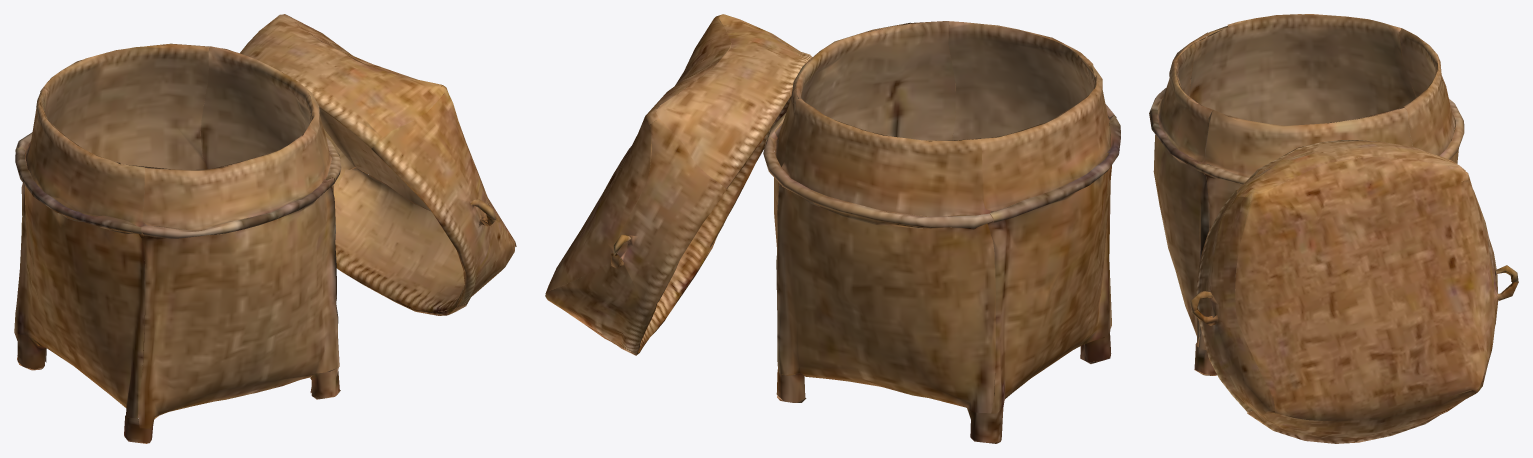
Rendered from basket-balanced-e55b08721c.glb.
3 views of the same model, side by side, from view 1: azimuth 30°, elevation 25°; view 2: azimuth 150°, elevation 25°; view 3: azimuth 270°, elevation 25° (orthographic). The views are drawn at different scales.
Visible parts, largest first — view 1: wicker_basket_02_base; view 2: wicker_basket_02_base; view 3: wicker_basket_02_base.
Part boxes in pixels (box(x1,y1,x2,y2)): wicker_basket_02_base: box(14, 14, 516, 443); wicker_basket_02_base: box(545, 14, 1120, 443); wicker_basket_02_base: box(1149, 14, 1518, 443).
Bounding box in the file's own units: 0.3467 × 0.2004 × 0.2544.
Materials: 1 (1 with a texture image).
